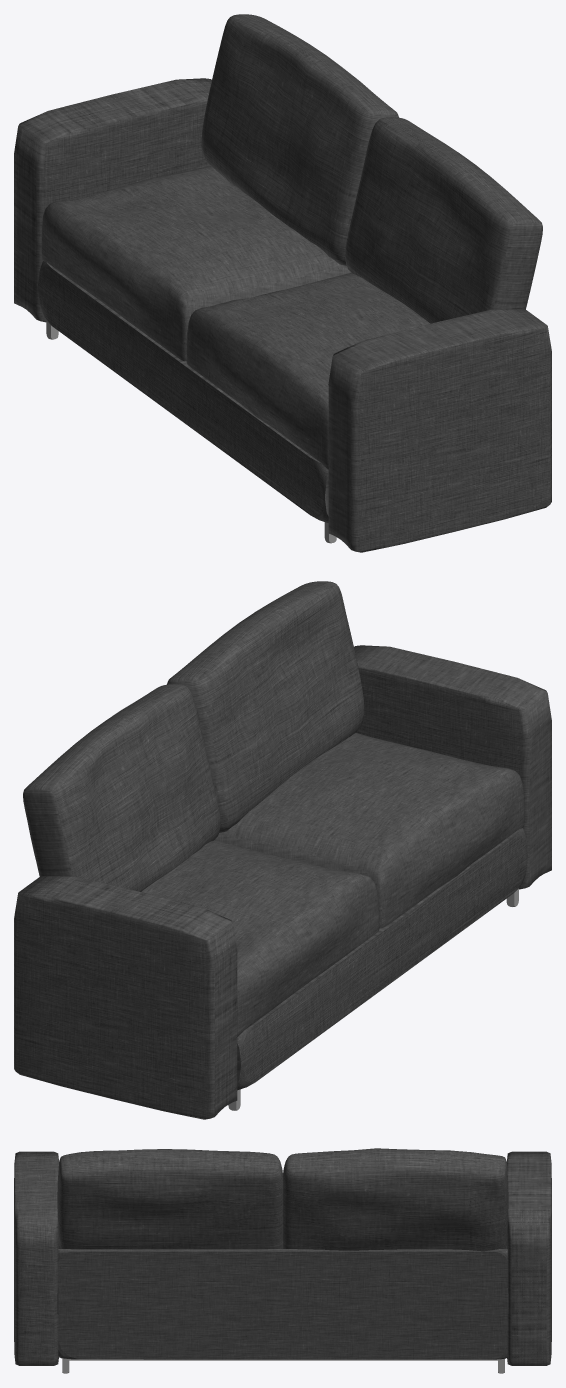
The model's file is sofa.glb.
The picture shows the model from 3 angles, top to bottom: view 1: azimuth 30°, elevation 25°; view 2: azimuth 150°, elevation 25°; view 3: azimuth 270°, elevation 25°; orthographic projection. The views are drawn at different scales.
Parts seen in each view (by area): view 1: SM_Koltuk; view 2: SM_Koltuk; view 3: SM_Koltuk.
Part boxes in pixels (bbox=[...]): SM_Koltuk: bbox=[14, 14, 551, 552]; SM_Koltuk: bbox=[14, 581, 551, 1119]; SM_Koltuk: bbox=[14, 1148, 551, 1373].
Size of the model in its own units: 0.9361 by 1.1 by 2.38.
Materials: 1 (1 with a texture image).
